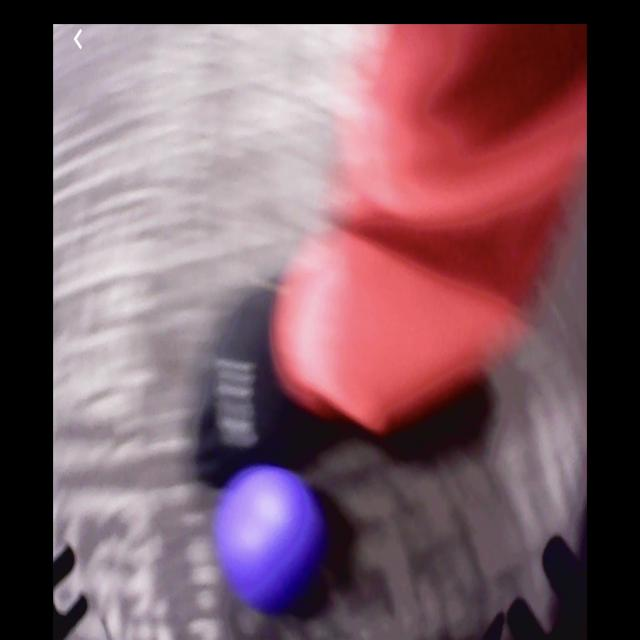ball: (222, 463, 318, 601)
